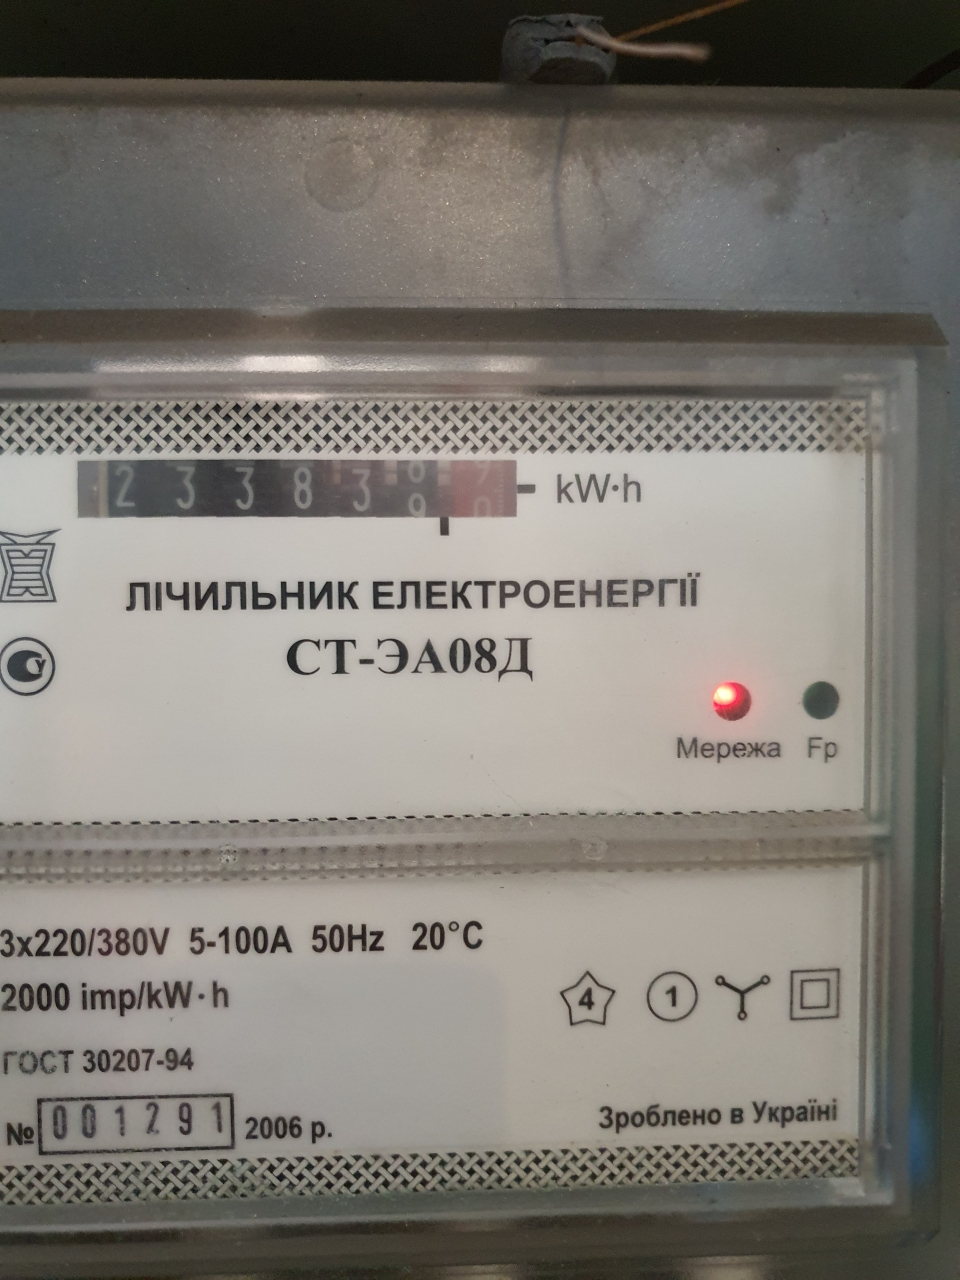0: (472, 493, 493, 520)
2: (113, 463, 137, 510)
3: (229, 463, 258, 512), (171, 462, 200, 511), (349, 466, 373, 512)
8: (289, 465, 316, 511), (405, 458, 428, 485)
9: (471, 457, 493, 487), (406, 490, 427, 519)
screen: (65, 449, 538, 539)
